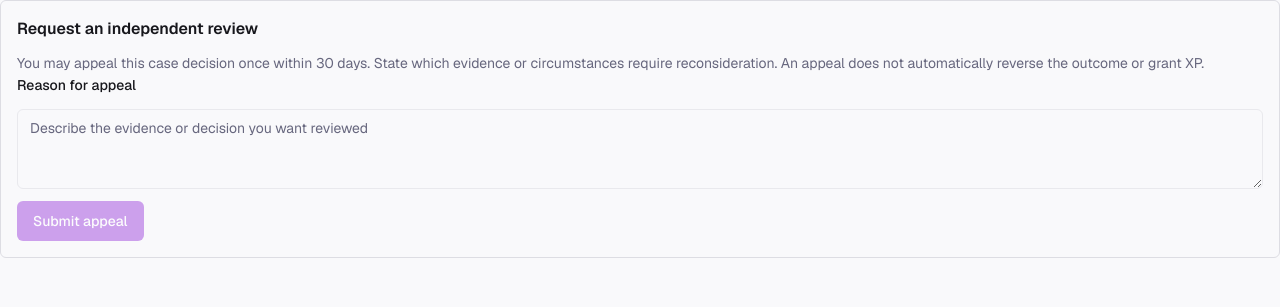
Test case: ExchangeCaseAppealForm › allows retry after transport rejection without disclosing internals
In the text box labelled "Reason for appeal": (640, 149) [17,109,1263,189], type "The evidence was not reviewed accurately."
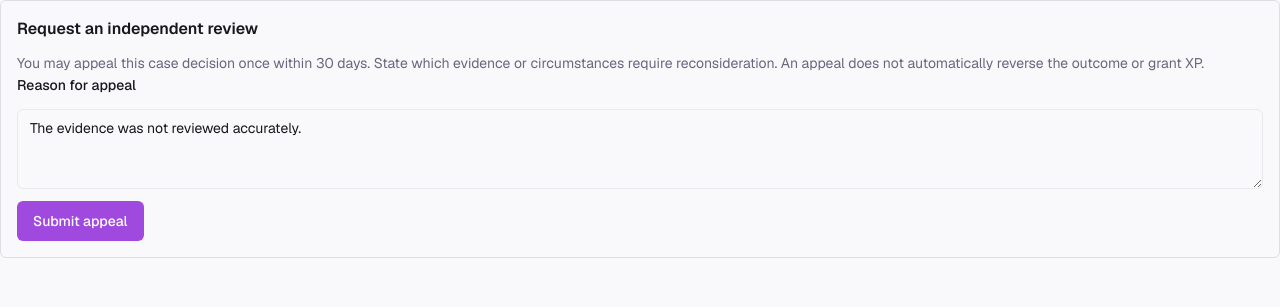
Click the button "Submit appeal": (80, 221) [17,201,144,241]
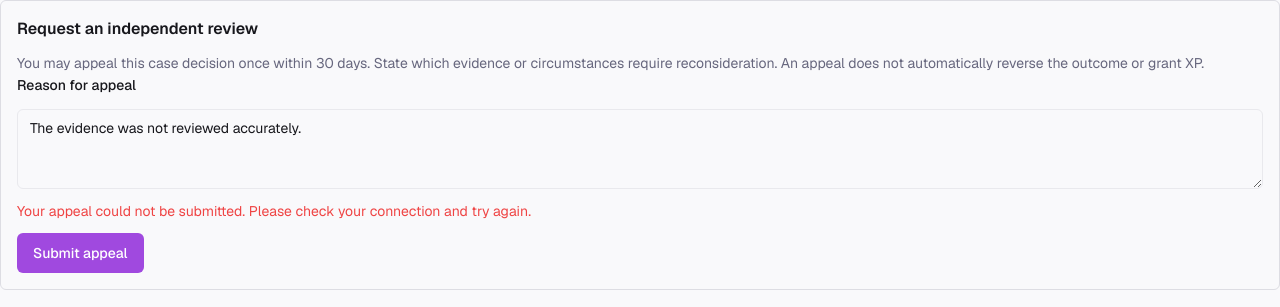
Result: the button "Submit appeal" is enabled at [17,233,144,273]
Result: the message reads "Your appeal could not be submitted. Please check your connection and try again." at [17,202,531,220]
